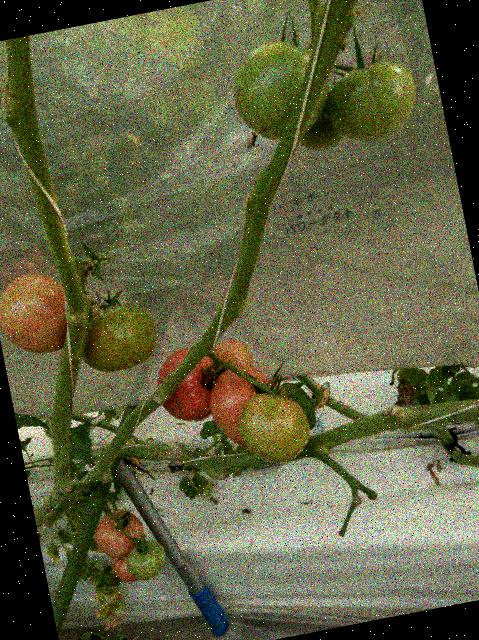b_fully_ripened: (150, 342, 224, 427)
b_green: (224, 33, 338, 152), (320, 56, 425, 148), (72, 297, 163, 377), (231, 385, 315, 470), (293, 105, 345, 154), (121, 537, 170, 583)
b_half_ripened: (201, 356, 299, 454), (0, 268, 74, 361), (90, 506, 148, 562), (207, 335, 255, 375), (110, 552, 140, 584)
